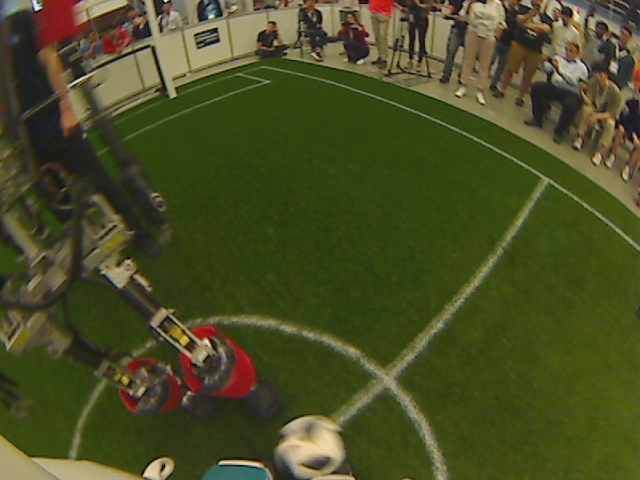ball: (270, 409, 352, 480)
